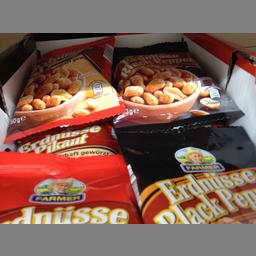nuts: (113, 124, 255, 222), (108, 40, 244, 127), (6, 36, 120, 134)
